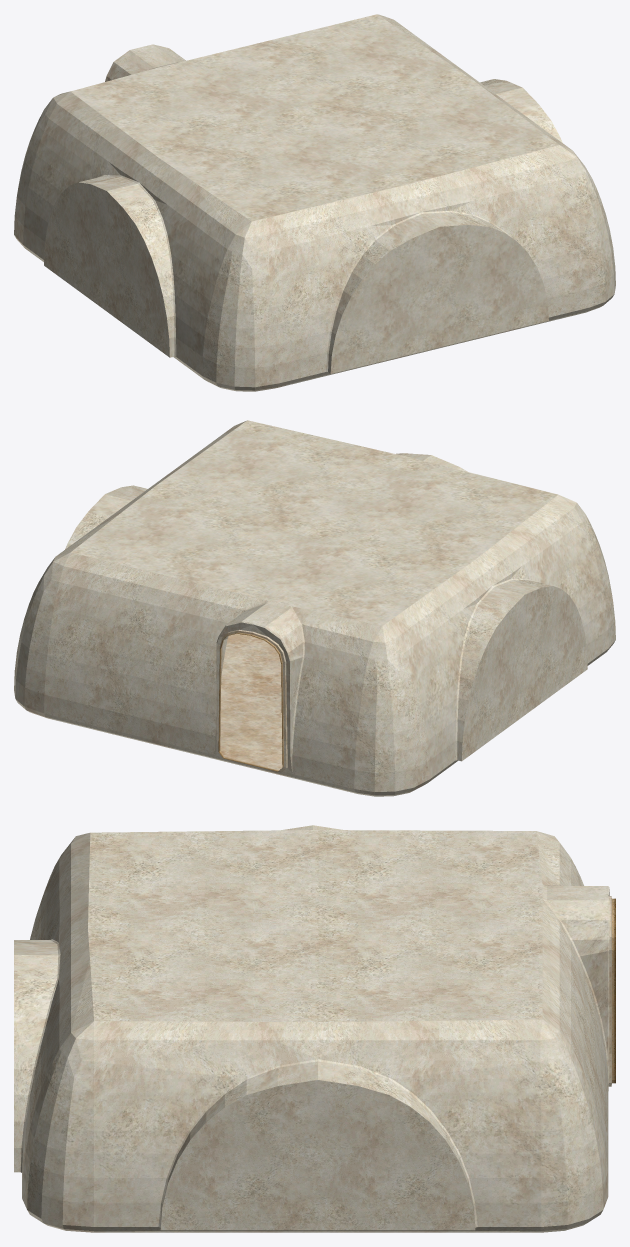
File: ply_tato_house_m_s01_fp1_r6_bedroom1_mesh_r6.fbx
The picture shows the model from 3 angles, top to bottom: view 1: azimuth 30°, elevation 25°; view 2: azimuth 150°, elevation 25°; view 3: azimuth 270°, elevation 25°; orthographic projection. The views are drawn at different scales.
Parts seen in each view (by area): view 1: mesh_node; view 2: mesh_node; view 3: mesh_node.
Boxes of the visible parts, bbox=[...] form: mesh_node: bbox=[14, 14, 615, 391]; mesh_node: bbox=[14, 420, 615, 796]; mesh_node: bbox=[14, 825, 615, 1232].
Size of the model in its own units: 10.13 by 3.49 by 10.12.
